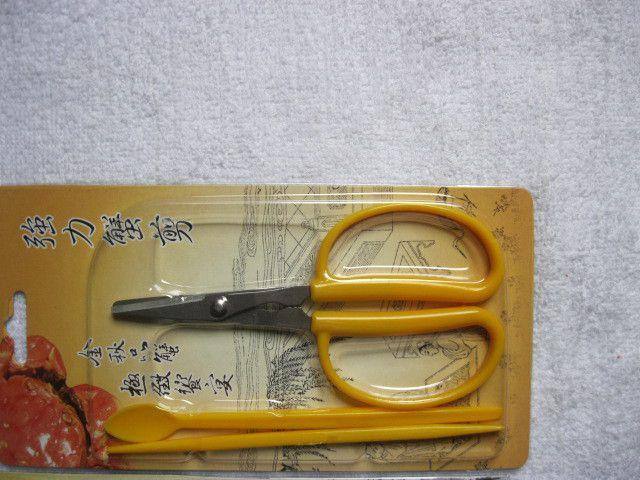scissor: (113, 204, 502, 410)
